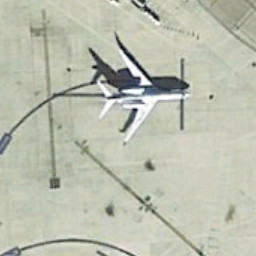Airplane: (77, 41, 210, 151)
